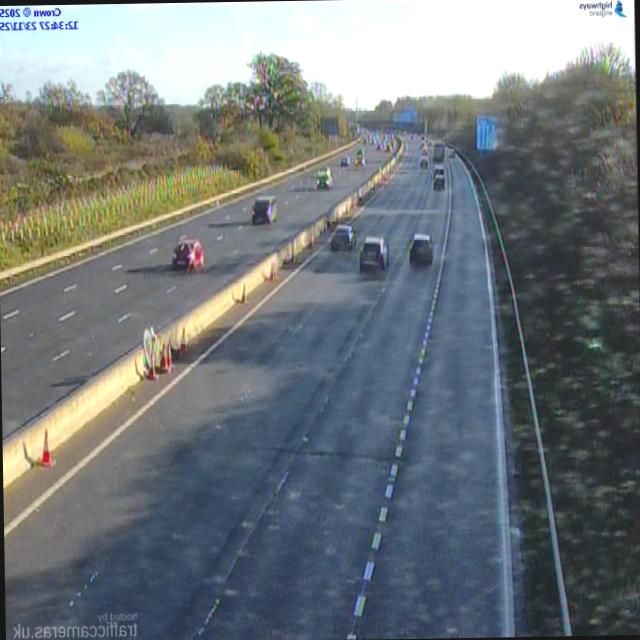foliage: (195, 52, 327, 177)
